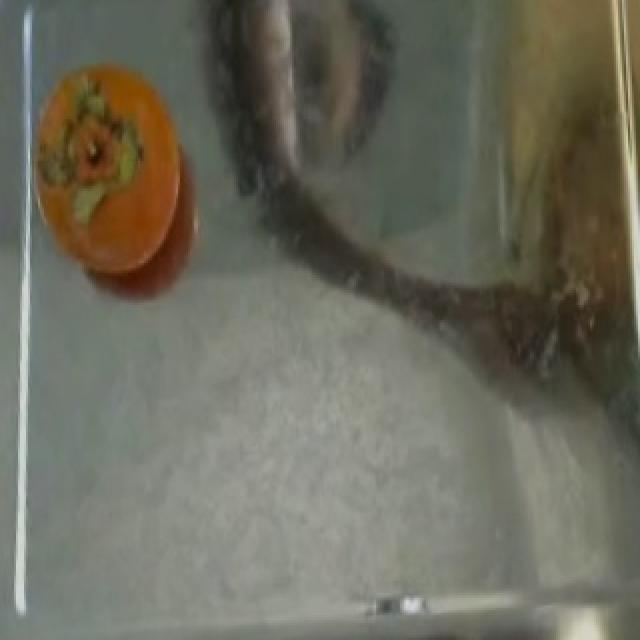Fruit: (24, 47, 200, 293)
